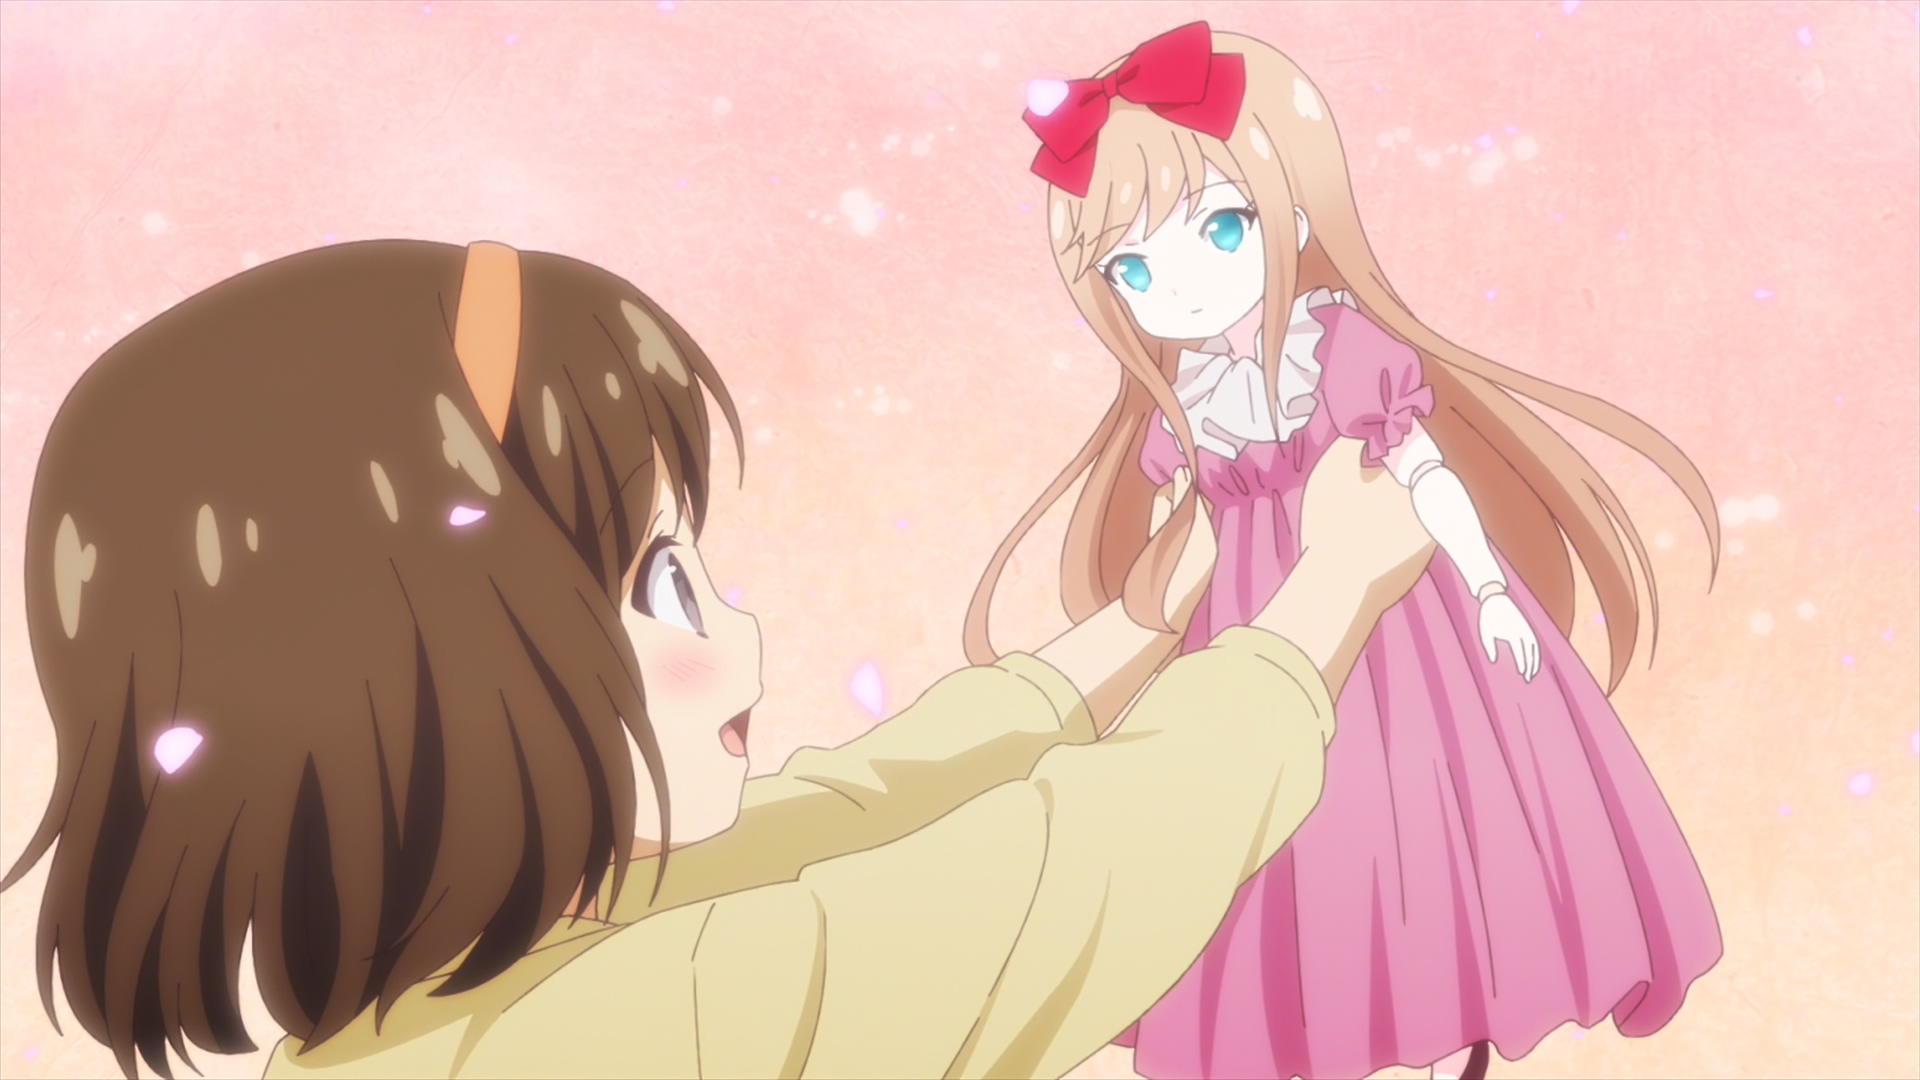其他: (1, 237, 1437, 1080), (961, 20, 1725, 1080)
